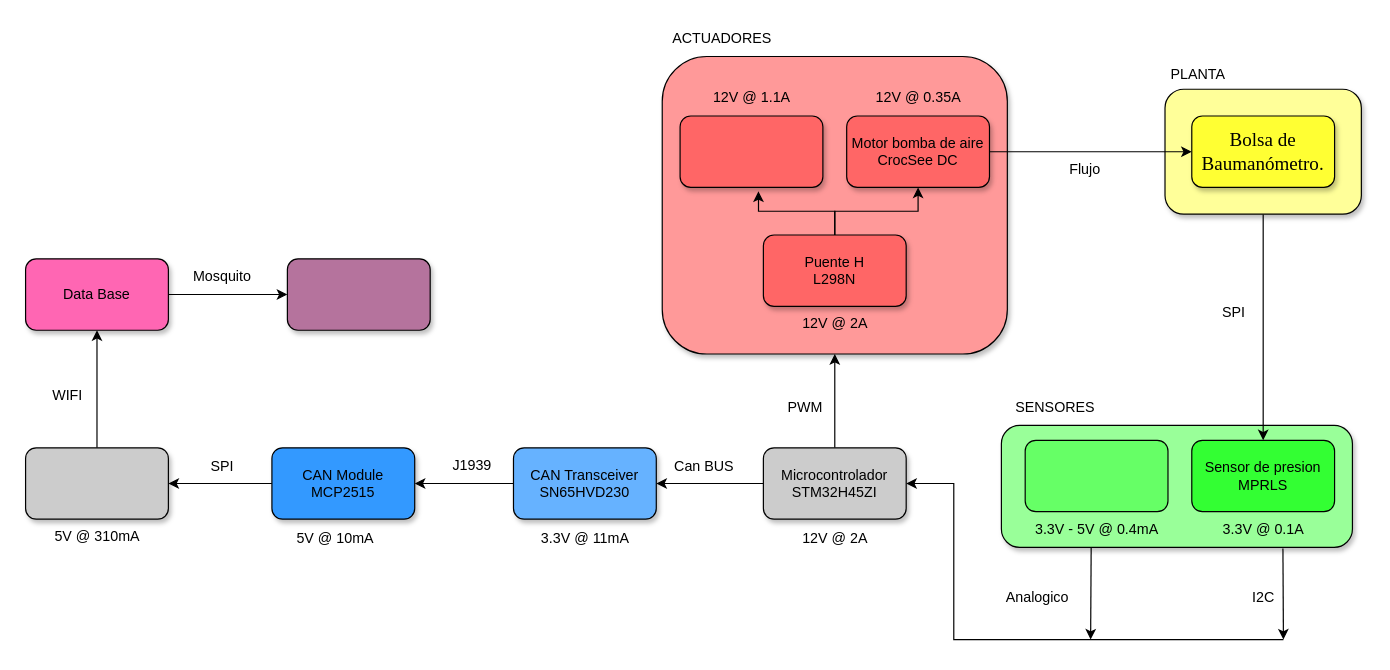
Some shapes in this 1390 by 670 pixel diagram are drawn without their labels. Each missing label, with the centre of its shape:
"Dashboard" goes at (x=359, y=296).
"ESP32" goes at (x=98, y=485).
"Microphono ky-037" goes at (x=1096, y=475).
"Motor DC Geared Motor DC" goes at (x=752, y=153).
